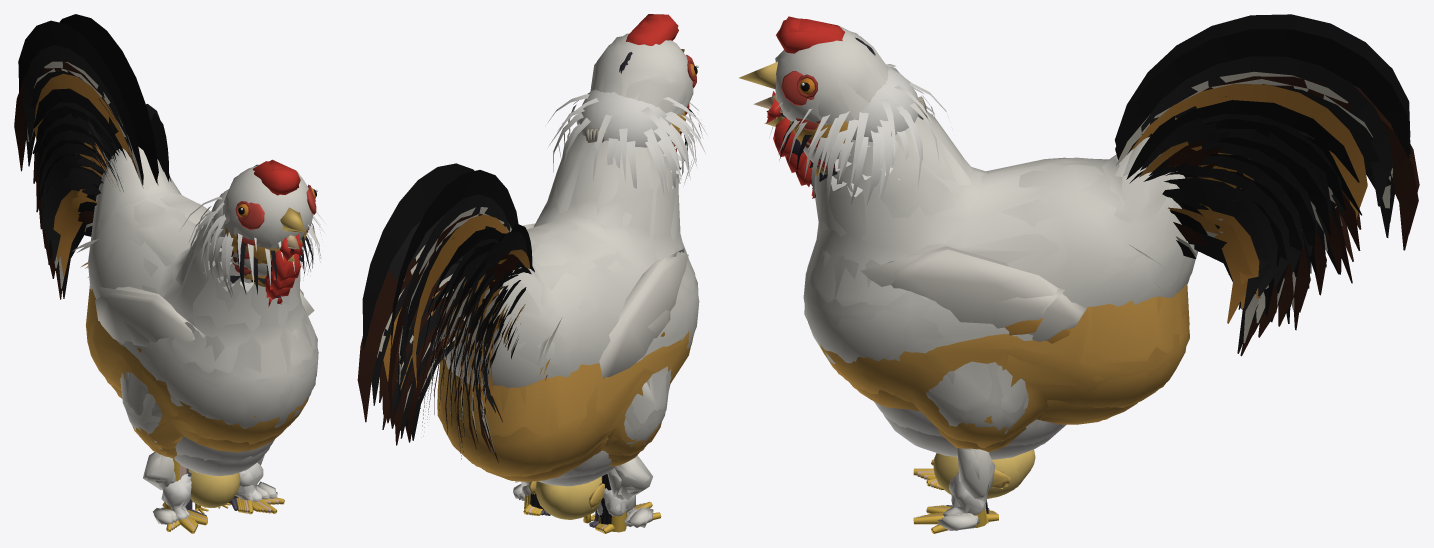
The model's file is flock.glb.
3 views of the same model, side by side, from view 1: azimuth 30°, elevation 25°; view 2: azimuth 150°, elevation 25°; view 3: azimuth 270°, elevation 25° (orthographic). The views are drawn at different scales.
Visible parts, largest first — view 1: bra_r, bra_r_lo, aya_r, orp_r, orp_r_lo, pol_r, aya_r_lo, sil_r, rir_r, pol_r_lo, sil_h, chick (+9 smaller); view 2: bra_r, bra_r_lo, orp_r, pol_r, aya_r, orp_r_lo, rir_r, pol_r_lo, rir_r_lo, aya_r_lo, leg_r, chick (+7 smaller); view 3: bra_r, bra_r_lo, orp_r, aya_r, orp_r_lo, pol_r, aya_r_lo, rir_r, pol_r_lo, rir_r_lo, leg_r, orp_h (+6 smaller).
Part boxes in pixels (box(x1,y1,x2,y2)): bra_r: box(22, 45, 318, 533); bra_r_lo: box(23, 52, 317, 523); aya_r: box(18, 14, 294, 273); orp_r: box(34, 73, 309, 530); orp_r_lo: box(34, 80, 307, 449); pol_r: box(24, 71, 325, 298); aya_r_lo: box(19, 27, 292, 258); sil_r: box(162, 438, 274, 523); rir_r: box(14, 60, 295, 527); pol_r_lo: box(25, 82, 324, 298); sil_h: box(174, 447, 269, 517); chick: box(188, 470, 239, 513); bra_r: box(388, 14, 699, 533); bra_r_lo: box(402, 14, 698, 527); orp_r: box(383, 103, 693, 532); pol_r: box(371, 90, 707, 447); aya_r: box(362, 52, 632, 524); orp_r_lo: box(384, 111, 690, 475); rir_r: box(357, 142, 673, 530); pol_r_lo: box(372, 89, 697, 458); rir_r_lo: box(363, 144, 675, 462); aya_r_lo: box(363, 52, 631, 524); leg_r: box(377, 130, 637, 531); chick: box(529, 478, 604, 523); bra_r: box(739, 18, 1393, 533); bra_r_lo: box(750, 16, 1392, 530); orp_r: box(753, 84, 1367, 526); aya_r: box(766, 14, 1410, 513); orp_r_lo: box(769, 91, 1366, 448); pol_r: box(770, 64, 1395, 334); aya_r_lo: box(855, 36, 1411, 513); rir_r: box(785, 76, 1419, 515); pol_r_lo: box(779, 67, 1393, 353); rir_r_lo: box(785, 85, 1416, 356); leg_r: box(795, 71, 1392, 515); orp_h: box(811, 160, 1137, 511).
Bounding box in the file's own units: 0.2964 × 0.711 × 0.9101.
